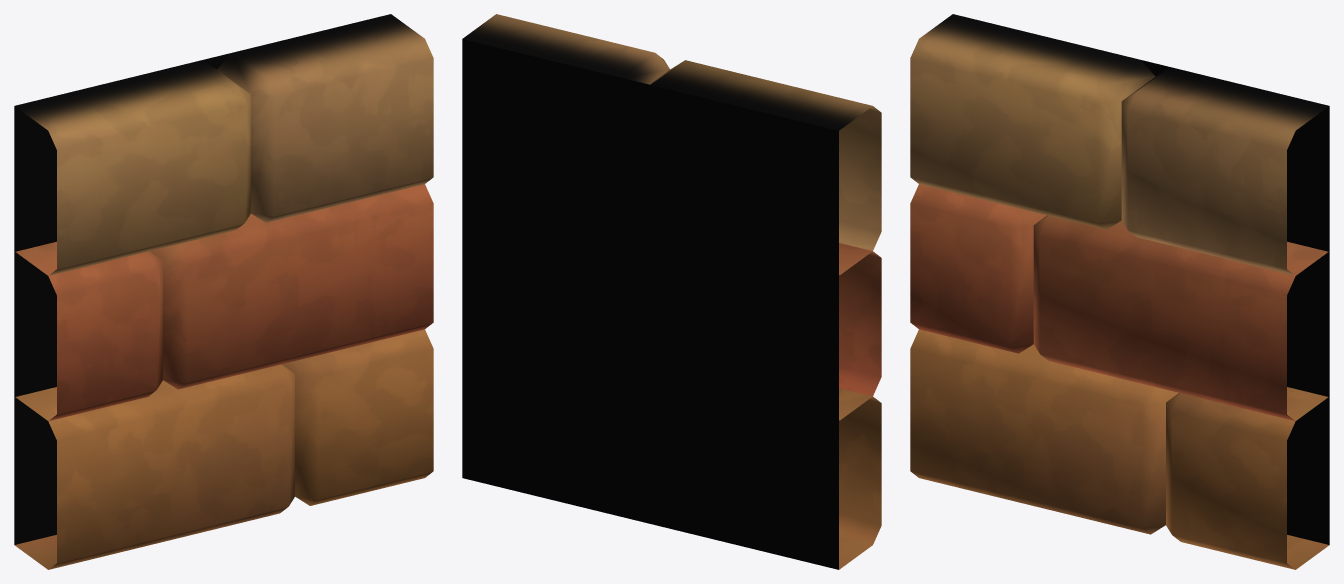
The model's file is Mur_Centre.FBX.
3 views of the same model, side by side, from view 1: azimuth 30°, elevation 25°; view 2: azimuth 150°, elevation 25°; view 3: azimuth 330°, elevation 25° (orthographic).
Visible parts, largest first — view 1: Mur_Centre; view 2: Mur_Centre; view 3: Mur_Centre.
Part boxes in pixels (box(x1,y1,x2,y2)): Mur_Centre: box(14, 14, 433, 569); Mur_Centre: box(462, 14, 881, 569); Mur_Centre: box(910, 14, 1329, 569).
Size of the model in its own units: 2 by 2.23 by 0.3919.
